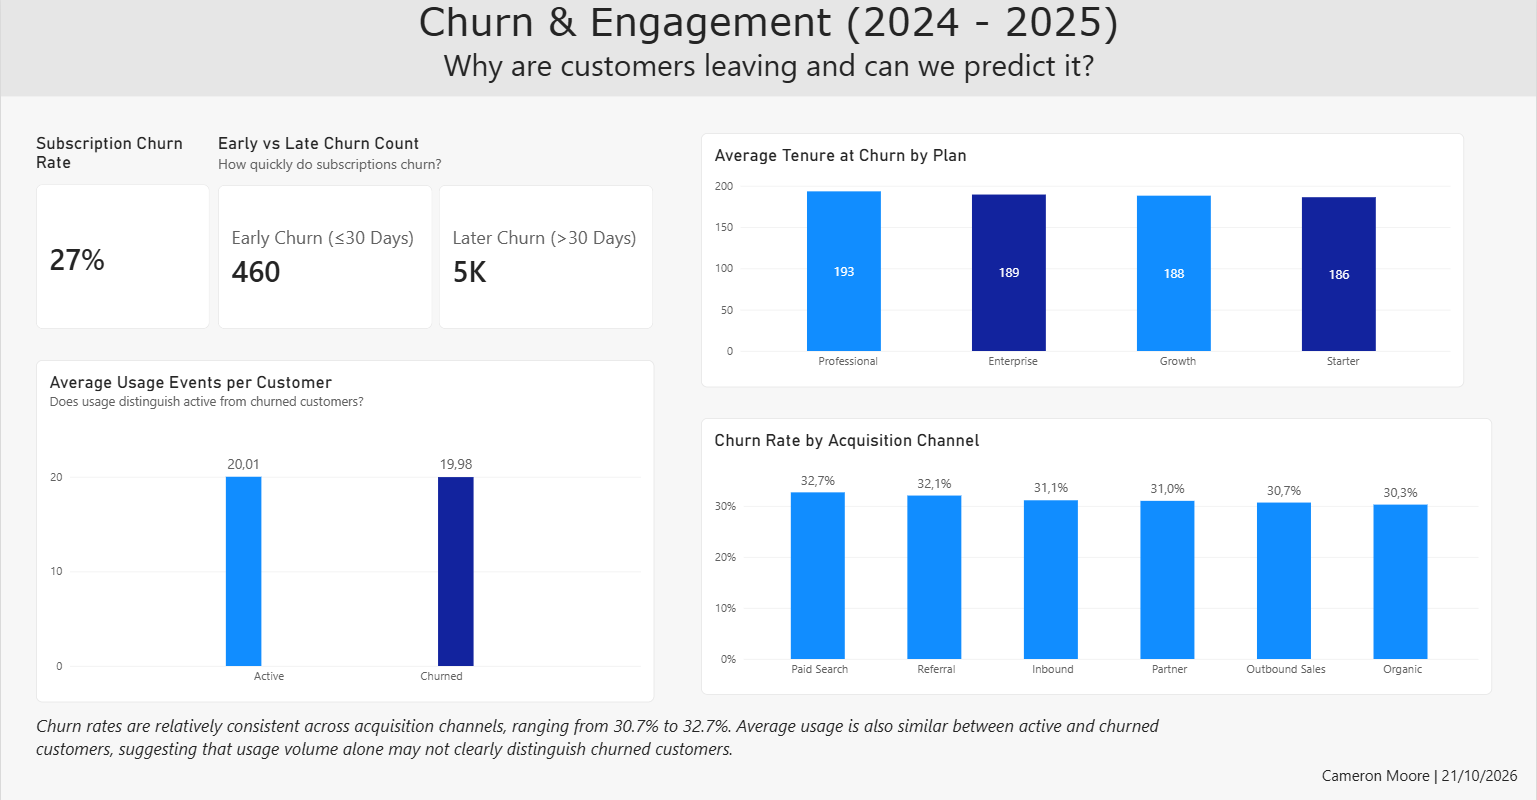

The dashboard page shown, as its layout file describes it:
{"tool":"powerbi","page":{"name":"Churn & Engagement","canvas":[1920,1080],"ordinal":2},"visuals":[{"type":"columnChart","title":"Churn Rate by Acquisition Channel","fields":{"Category":["northstar_workflow customers.acquisition_channel"],"Y":["northstar_workflow companies.Customer Churn Rate by Channel"]},"box":[875,525,988.8,346.2],"z":0},{"type":"columnChart","title":"Average Tenure at Churn by Plan","fields":{"Category":["northstar_workflow plans.plan_name"],"Series":["northstar_workflow plans.plan_name"],"Y":["northstar_workflow companies.Average Tenure at Churn (Days)"]},"box":[875,168.8,953.8,317.5],"z":1000},{"type":"clusteredColumnChart","title":"Average Usage Events per Customer","fields":{"Category":["northstar_workflow customers.customer_status"],"Series":["northstar_workflow customers.customer_status"],"Y":["northstar_workflow companies.Average Events per Customer"]},"box":[43.8,452.5,772.5,427.5],"z":2000},{"type":"cardVisual","title":"Early vs Late Churn Count","fields":{"Data":["northstar_workflow companies.Early Churn","northstar_workflow companies.Late Churn"]},"box":[271.2,168.8,545,245],"z":3000},{"type":"textbox","box":[0,0,1920,122.5],"z":4000},{"type":"cardVisual","title":"Subscription Churn Rate","fields":{"Data":["northstar_workflow companies.Overall Churn Rate"]},"box":[43.8,168.8,217.5,245],"z":5000},{"type":"textbox","box":[1651.2,958.8,268.8,37.5],"z":6000},{"type":"textbox","box":[43.8,895,1418.8,101.2],"z":7000}]}

Visuals, with their boxes on the page's 1920x1080 design canvas (x1, y1, x2, y2). These are canvas units, not pixel positions in the 1537x800 screenshot, which may show the page scaled, cropped or inside an application window:
"Churn Rate by Acquisition Channel" columnChart: <bbox>875, 525, 1864, 871</bbox>
"Average Tenure at Churn by Plan" columnChart: <bbox>875, 169, 1829, 486</bbox>
"Average Usage Events per Customer" clusteredColumnChart: <bbox>44, 452, 816, 880</bbox>
"Early vs Late Churn Count" cardVisual: <bbox>271, 169, 816, 414</bbox>
textbox: <bbox>0, 0, 1920, 122</bbox>
"Subscription Churn Rate" cardVisual: <bbox>44, 169, 261, 414</bbox>
textbox: <bbox>1651, 959, 1920, 996</bbox>
textbox: <bbox>44, 895, 1463, 996</bbox>
